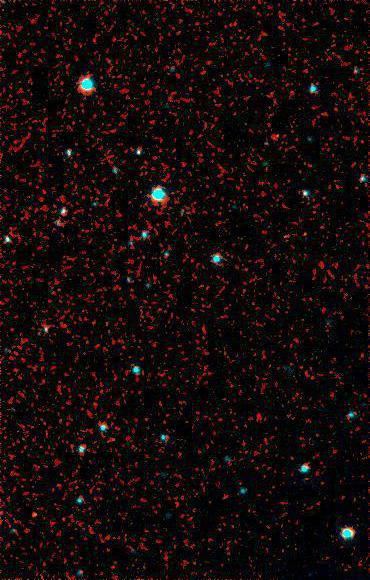star: (18, 500, 48, 530)
